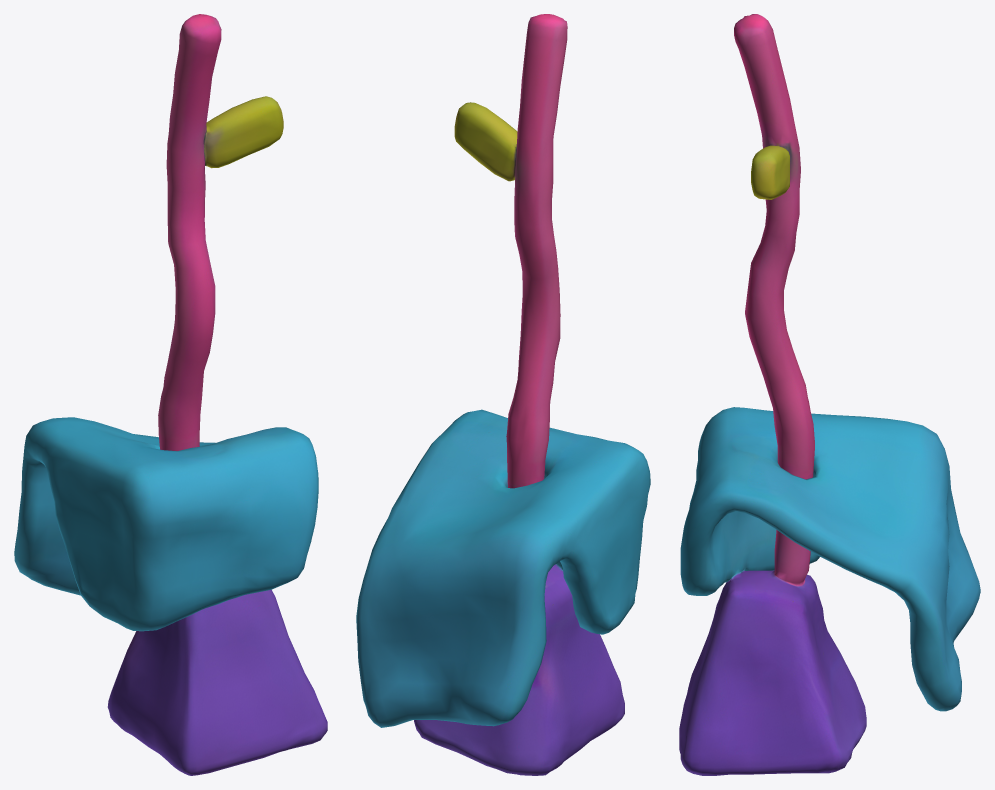
Rendered from ce271978-4da3-4e20-a7f7-499e1ddef582.glb.
The picture shows the model from 3 angles, left to right: view 1: azimuth 30°, elevation 25°; view 2: azimuth 150°, elevation 25°; view 3: azimuth 270°, elevation 25°; orthographic projection.
Parts seen in each view (by area): view 1: tripo_node_1bdd76b5-b86f-4e6c-b9b2-269ef81ae291; view 2: tripo_node_1bdd76b5-b86f-4e6c-b9b2-269ef81ae291; view 3: tripo_node_1bdd76b5-b86f-4e6c-b9b2-269ef81ae291.
Part boxes in pixels (x1=…): tripo_node_1bdd76b5-b86f-4e6c-b9b2-269ef81ae291: x1=14, y1=14, x2=327, y2=775; tripo_node_1bdd76b5-b86f-4e6c-b9b2-269ef81ae291: x1=356, y1=14, x2=650, y2=775; tripo_node_1bdd76b5-b86f-4e6c-b9b2-269ef81ae291: x1=679, y1=14, x2=980, y2=775.
Bounding box in the file's own units: 0.2955 × 0.998 × 0.3777.
Materials: 1 (1 with a texture image).
